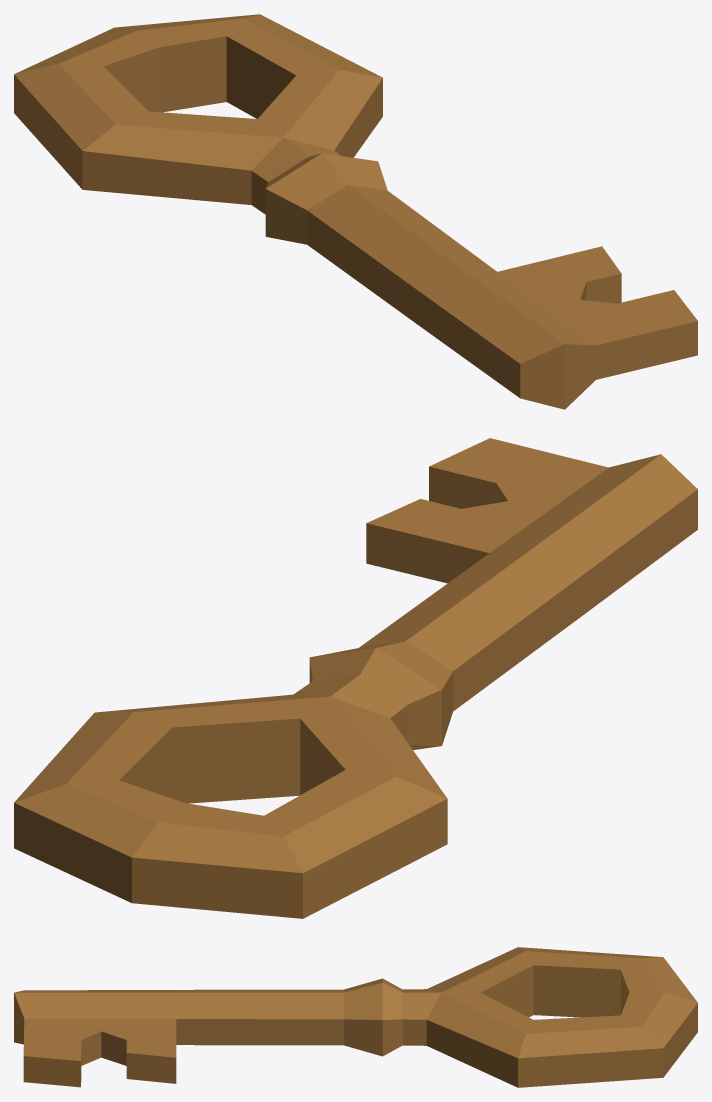
The model's file is fantasy-key-small.glb.
3 renders of one model, top to bottom at view 1: azimuth 30°, elevation 25°; view 2: azimuth 150°, elevation 25°; view 3: azimuth 270°, elevation 25°, orthographic. The views are drawn at different scales.
Parts seen in each view (by area): view 1: key-small; view 2: key-small; view 3: key-small.
Part boxes in pixels (left/top/right/bottom): key-small: left=14, top=14, right=697, bottom=409; key-small: left=14, top=438, right=697, bottom=918; key-small: left=14, top=947, right=697, bottom=1087.
Bounding box in the file's own units: 0.0968 × 0.0279 × 0.2487.
